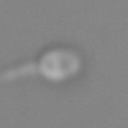normal: (1, 60, 37, 86)
